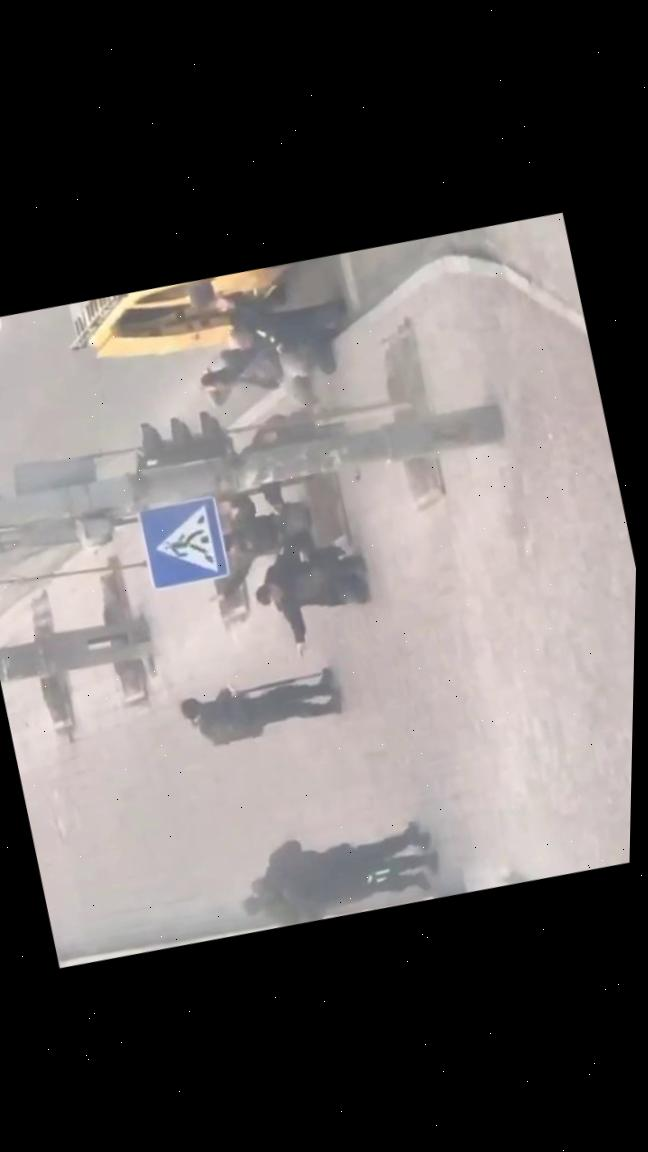person: (243, 816, 446, 933), (240, 518, 383, 668), (206, 269, 359, 403), (235, 844, 433, 942), (175, 656, 350, 761), (194, 330, 318, 430)
